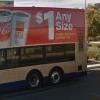Bus: (1, 3, 91, 91)
